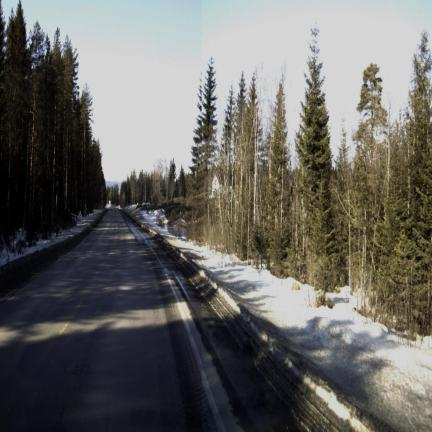Road: (0, 211, 226, 431)
